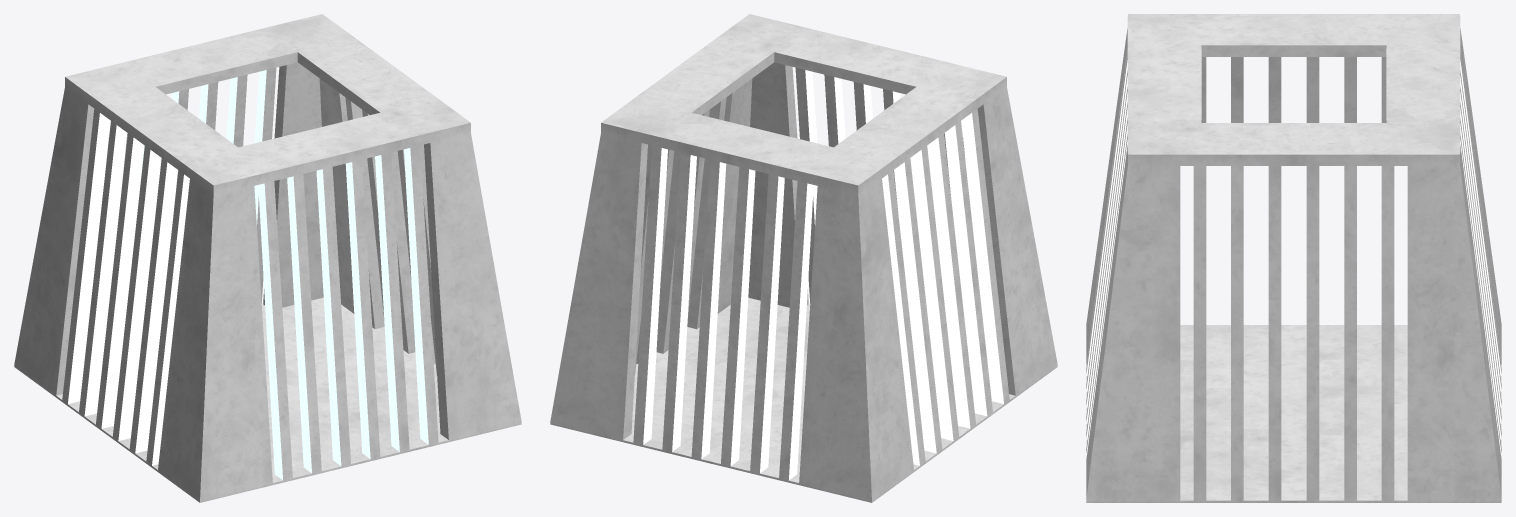
The model's file is Intro.fbx.
The picture shows the model from 3 angles, left to right: view 1: azimuth 30°, elevation 25°; view 2: azimuth 150°, elevation 25°; view 3: azimuth 270°, elevation 25°; orthographic projection. The views are drawn at different scales.
Parts seen in each view (by area): view 1: SM_TempleSmall_2_StaticMeshComponent0; view 2: SM_TempleSmall_2_StaticMeshComponent0; view 3: SM_TempleSmall_2_StaticMeshComponent0.
Boxes of the visible parts, left/top/right/bottom form: SM_TempleSmall_2_StaticMeshComponent0: left=14, top=14, right=521, bottom=502; SM_TempleSmall_2_StaticMeshComponent0: left=550, top=14, right=1057, bottom=502; SM_TempleSmall_2_StaticMeshComponent0: left=1086, top=14, right=1501, bottom=502.
Bounding box in the file's own units: 2475 × 2175 × 2475.
Materials: 2 (1 with a texture image).
